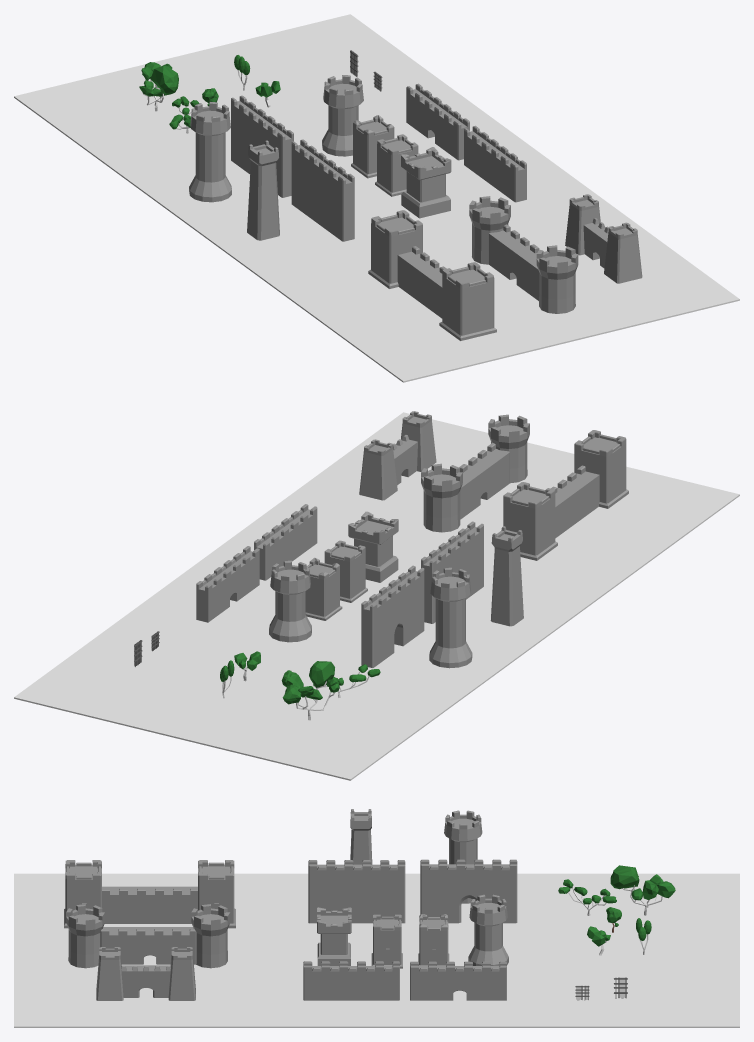
Rendered from mudolar demo.fbx.
3 views of the same model, one above another, from view 1: azimuth 30°, elevation 25°; view 2: azimuth 150°, elevation 25°; view 3: azimuth 270°, elevation 25° (orthographic). The views are drawn at different scales.
Visible parts, largest first — view 1: Cube.063, Cube.067, Circle.010, Cube.060, Gate3.001, Circle.011, Cube.061, Cube.058, Cube.065, Cube.064, Cube.062, Circle.005 (+3 smaller); view 2: Cube.063, Cube.067, Circle.010, Cube.061, Gate3.001, Circle.011, Cube.060, Cube.062, Circle.005, Cube.065, Cube.058, Cube.064 (+3 smaller); view 3: Cube.063, Cube.067, Circle.010, Cube.060, Cube.061, Gate3.001, Cube.058, Cube.062, Circle.005, Cube.064, Circle.011, Cube.055 (+4 smaller).
Boxes of the visible parts, x1=… form: Cube.063: x1=14, y1=14, x2=739, y2=382; Cube.067: x1=368, y1=210, x2=496, y2=340; Circle.010: x1=469, y1=196, x2=578, y2=313; Cube.060: x1=291, y1=139, x2=354, y2=241; Gate3.001: x1=565, y1=194, x2=642, y2=283; Circle.011: x1=189, y1=102, x2=231, y2=202; Cube.061: x1=231, y1=95, x2=293, y2=197; Cube.058: x1=464, y1=125, x2=526, y2=202; Cube.065: x1=247, y1=140, x2=279, y2=240; Cube.064: x1=401, y1=147, x2=451, y2=218; Cube.062: x1=406, y1=83, x2=469, y2=160; Circle.005: x1=322, y1=75, x2=363, y2=156; Cube.063: x1=14, y1=412, x2=739, y2=780; Cube.067: x1=503, y1=430, x2=628, y2=560; Circle.010: x1=421, y1=414, x2=529, y2=532; Cube.061: x1=361, y1=565, x2=424, y2=667; Gate3.001: x1=359, y1=411, x2=436, y2=500; Circle.011: x1=429, y1=567, x2=472, y2=668; Cube.060: x1=421, y1=521, x2=483, y2=623; Cube.062: x1=196, y1=546, x2=259, y2=622; Circle.005: x1=269, y1=560, x2=311, y2=642; Cube.065: x1=490, y1=526, x2=523, y2=626; Cube.058: x1=254, y1=504, x2=317, y2=580; Cube.064: x1=348, y1=511, x2=398, y2=582; Cube.063: x1=14, y1=873, x2=739, y2=1027; Cube.067: x1=64, y1=860, x2=235, y2=928; Circle.010: x1=66, y1=904, x2=230, y2=968; Cube.060: x1=308, y1=860, x2=405, y2=923; Cube.061: x1=420, y1=859, x2=517, y2=923; Gate3.001: x1=96, y1=947, x2=195, y2=1000; Cube.058: x1=303, y1=961, x2=399, y2=1000; Cube.062: x1=410, y1=961, x2=506, y2=1000; Circle.005: x1=468, y1=894, x2=508, y2=965; Cube.064: x1=317, y1=907, x2=351, y2=965; Circle.011: x1=444, y1=810, x2=482, y2=903; Cube.055: x1=418, y1=914, x2=449, y2=965.
Size of the model in its own units: 111 by 27.94 by 222.
